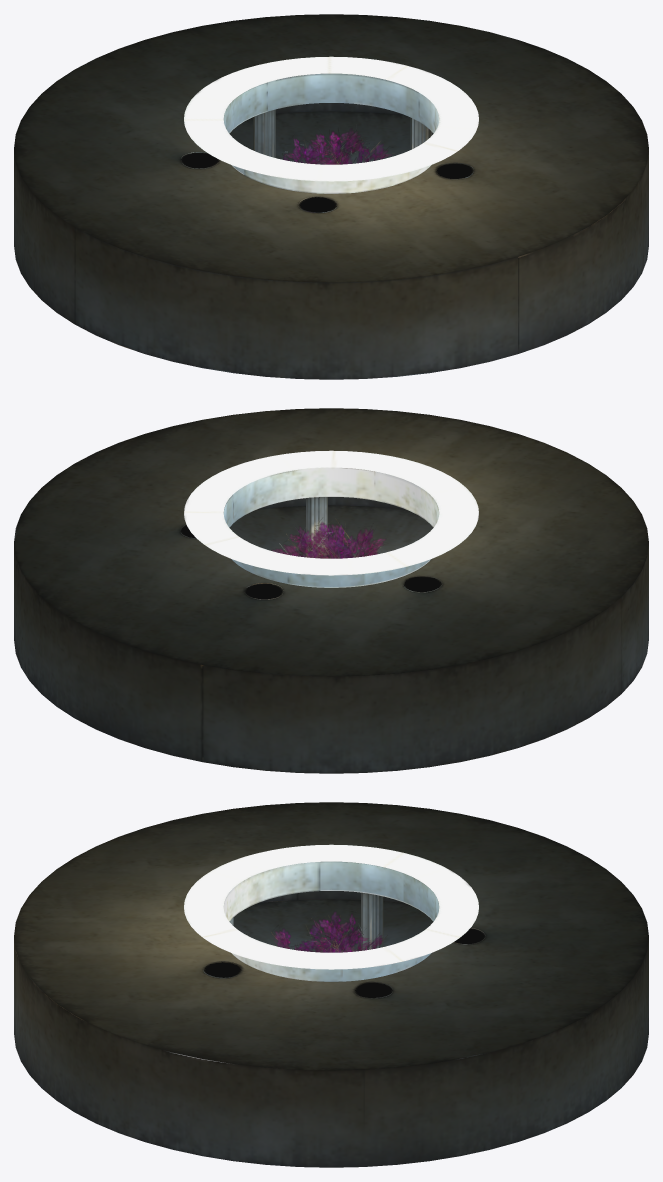
Rendered from environment_vr_room_baked.glb.
3 views of the same model, one above another, from view 1: azimuth 30°, elevation 25°; view 2: azimuth 150°, elevation 25°; view 3: azimuth 270°, elevation 25° (orthographic).
Visible parts, largest first — view 1: leaves_0; view 2: leaves_0; view 3: leaves_0.
Boxes of the visible parts, x1,y1,x2,y2 form: leaves_0: [14, 14, 648, 379]; leaves_0: [14, 408, 648, 773]; leaves_0: [14, 802, 648, 1167].
Size of the model in its own units: 14.6 by 3.44 by 14.6.
3 materials, 3 textured.
